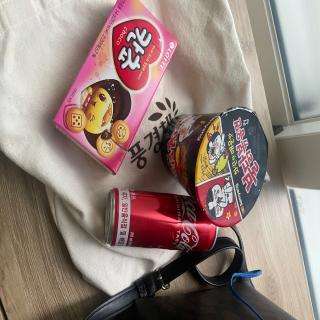cocacola: (98, 179, 229, 254)
